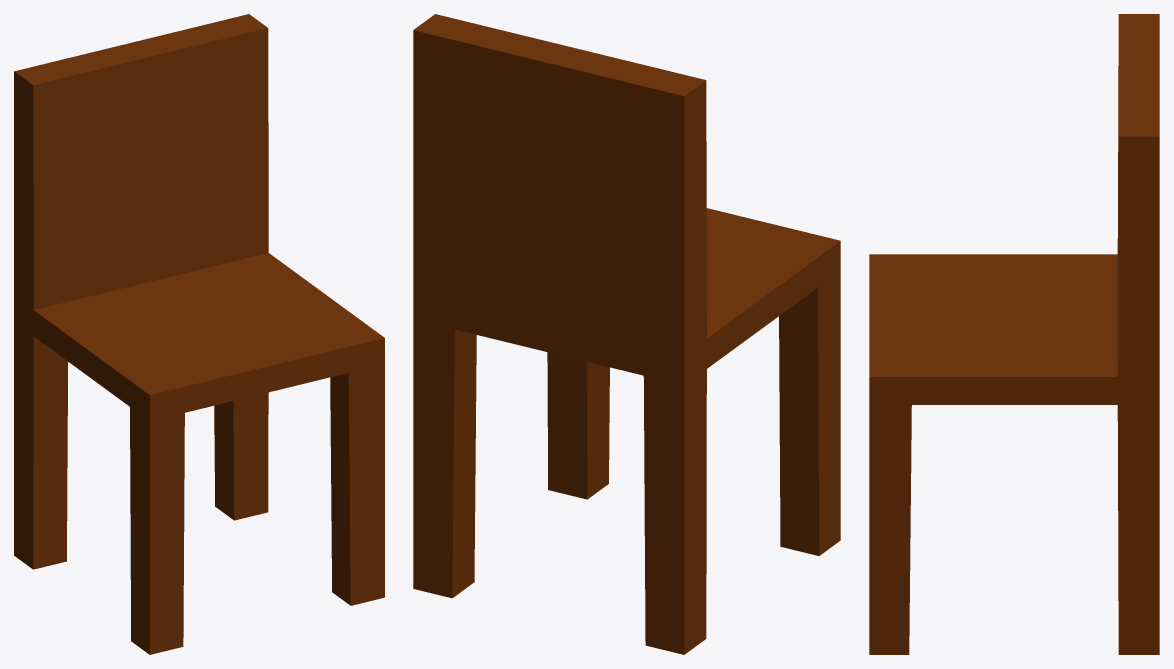
Rendered from stuhl.dae.
3 views of the same model, side by side, from view 1: azimuth 30°, elevation 25°; view 2: azimuth 150°, elevation 25°; view 3: azimuth 270°, elevation 25° (orthographic). The views are drawn at different scales.
Parts seen in each view (by area): view 1: Cube; view 2: Cube; view 3: Cube.
Part boxes in pixels (x1,y1,x2,y2): Cube: (14,14,384,654); Cube: (413,14,840,654); Cube: (869,14,1159,654).
Bounding box in the file's own units: 2 × 2 × 3.94.
